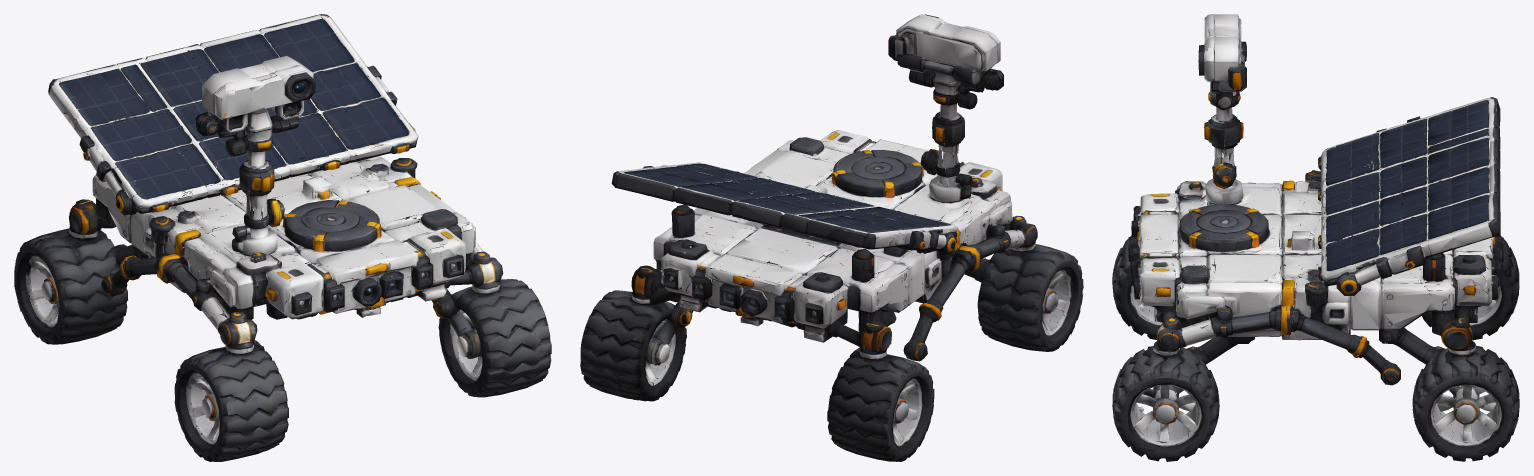
The model's file is MarsRover.glb.
3 renders of one model, left to right at view 1: azimuth 30°, elevation 25°; view 2: azimuth 150°, elevation 25°; view 3: azimuth 270°, elevation 25°, orthographic. The views are drawn at different scales.
Parts seen in each view (by area): view 1: tripo_part_1, tripo_part_10, tripo_part_0, tripo_part_11, tripo_part_2, tripo_part_19, tripo_part_14, tripo_part_18, tripo_part_24, tripo_part_17, tripo_part_12, tripo_part_28 (+18 smaller); view 2: tripo_part_1, tripo_part_0, tripo_part_11, tripo_part_18, tripo_part_12, tripo_part_17, tripo_part_2, tripo_part_16, tripo_part_36, tripo_part_6, tripo_part_14, tripo_part_19 (+18 smaller); view 3: tripo_part_1, tripo_part_0, tripo_part_10, tripo_part_2, tripo_part_19, tripo_part_14, tripo_part_17, tripo_part_15, tripo_part_18, tripo_part_24, tripo_part_11, tripo_part_27 (+21 smaller).
Boxes of the visible parts, left/top/right/bottom form: tripo_part_1: left=92, top=144, right=494, bottom=319; tripo_part_10: left=354, top=249, right=551, bottom=397; tripo_part_0: left=14, top=191, right=366, bottom=344; tripo_part_11: left=174, top=301, right=288, bottom=461; tripo_part_2: left=174, top=63, right=410, bottom=180; tripo_part_19: left=92, top=109, right=221, bottom=198; tripo_part_14: left=49, top=14, right=418, bottom=211; tripo_part_18: left=202, top=55, right=315, bottom=119; tripo_part_24: left=60, top=64, right=167, bottom=126; tripo_part_17: left=284, top=200, right=380, bottom=251; tripo_part_12: left=195, top=100, right=290, bottom=196; tripo_part_28: left=264, top=18, right=355, bottom=72; tripo_part_1: left=653, top=130, right=1012, bottom=328; tripo_part_0: left=580, top=260, right=934, bottom=461; tripo_part_11: left=942, top=214, right=1083, bottom=351; tripo_part_18: left=896, top=14, right=1000, bottom=73; tripo_part_12: left=916, top=59, right=1003, bottom=146; tripo_part_17: left=832, top=150, right=922, bottom=196; tripo_part_2: left=653, top=163, right=874, bottom=211; tripo_part_16: left=903, top=237, right=973, bottom=360; tripo_part_36: left=611, top=171, right=733, bottom=215; tripo_part_6: left=647, top=169, right=900, bottom=247; tripo_part_14: left=618, top=162, right=958, bottom=249; tripo_part_19: left=830, top=207, right=950, bottom=229; tripo_part_1: left=1137, top=178, right=1498, bottom=345; tripo_part_0: left=1379, top=236, right=1519, bottom=461; tripo_part_10: left=1112, top=274, right=1254, bottom=461; tripo_part_2: left=1326, top=157, right=1426, bottom=271; tripo_part_19: left=1326, top=119, right=1426, bottom=185; tripo_part_14: left=1318, top=98, right=1493, bottom=285; tripo_part_17: left=1179, top=204, right=1268, bottom=251; tripo_part_15: left=1290, top=281, right=1400, bottom=385; tripo_part_18: left=1198, top=14, right=1241, bottom=81; tripo_part_24: left=1427, top=100, right=1488, bottom=154; tripo_part_11: left=1112, top=209, right=1247, bottom=339; tripo_part_27: left=1427, top=137, right=1489, bottom=183.
Bounding box in the file's own units: 0.8606 × 0.8639 × 0.9801.
95 materials, 95 textured.
